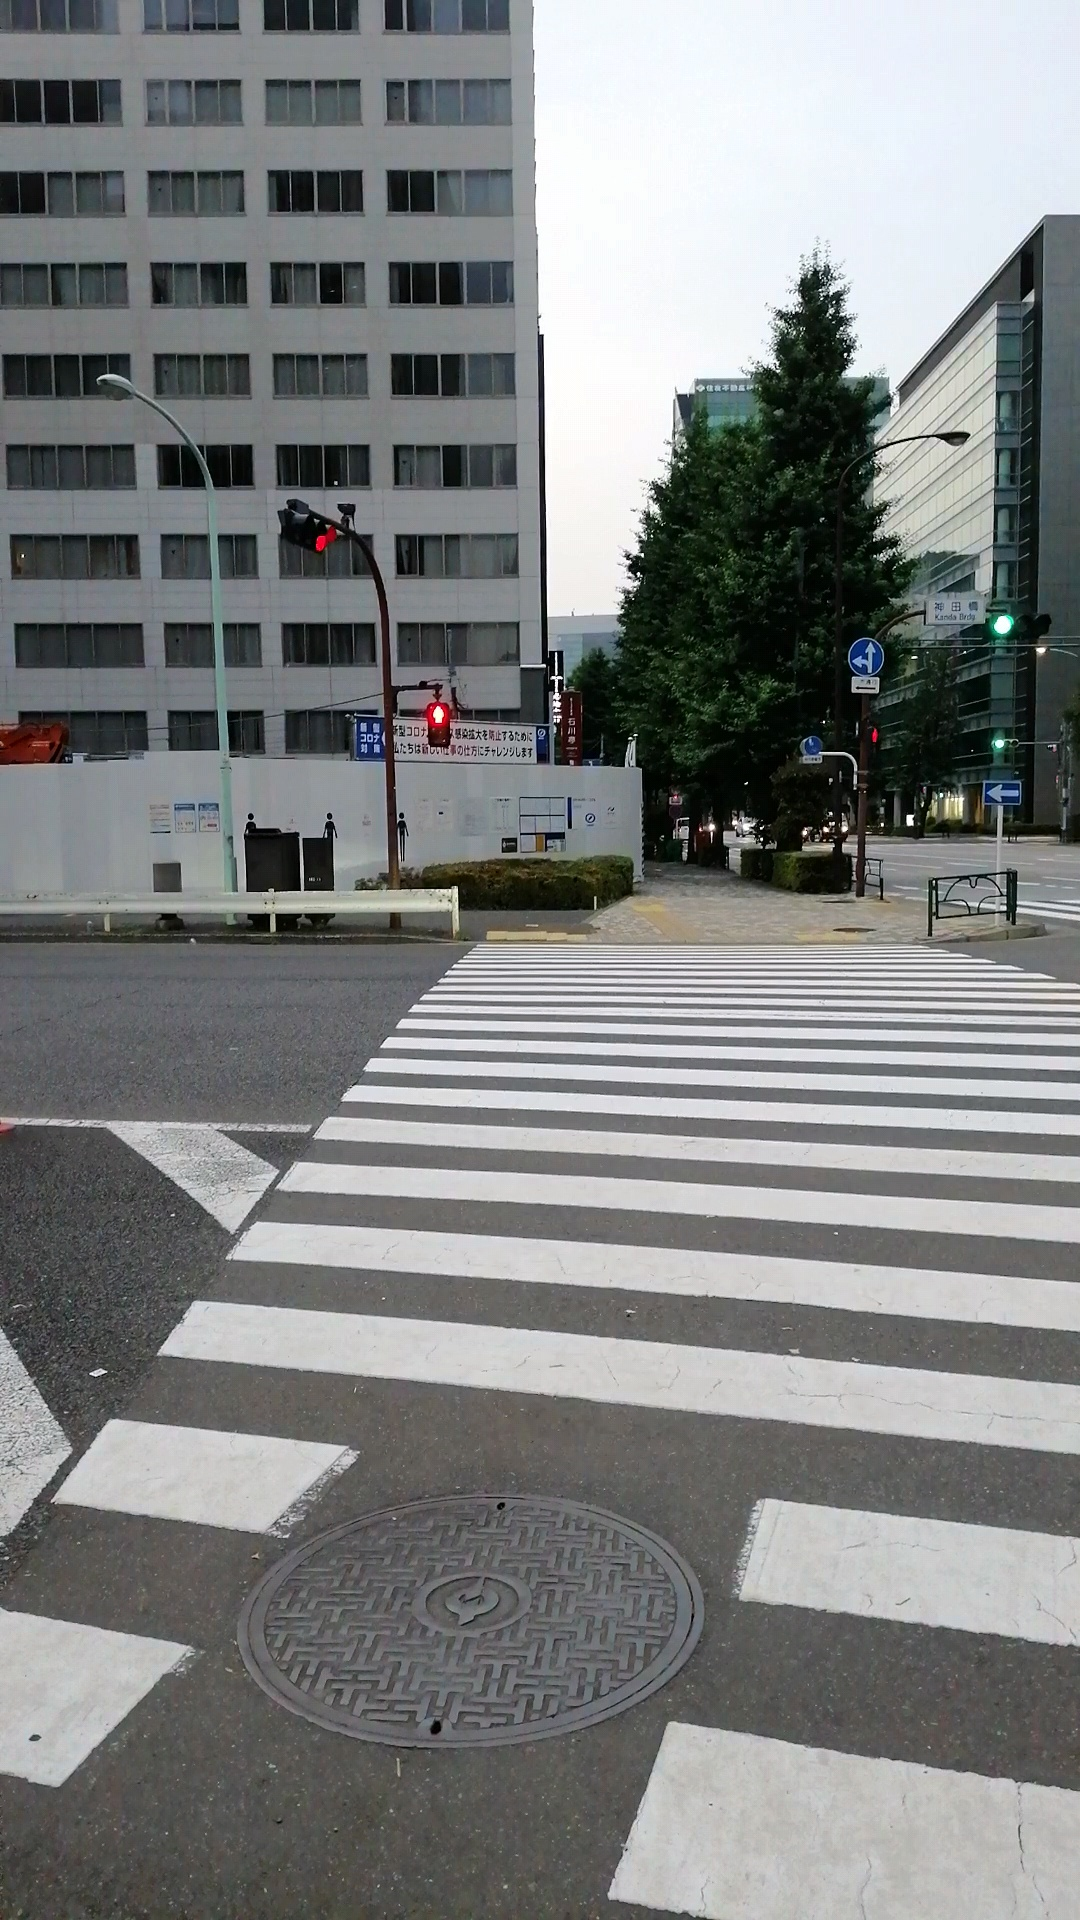red: (425, 702, 452, 748)
